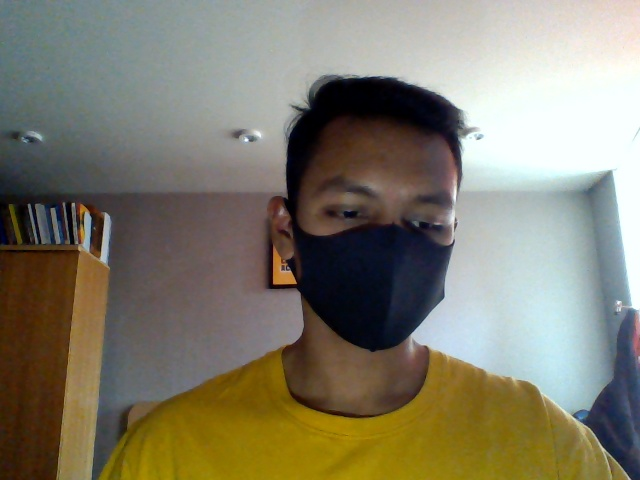mask: (295, 228, 451, 356)
